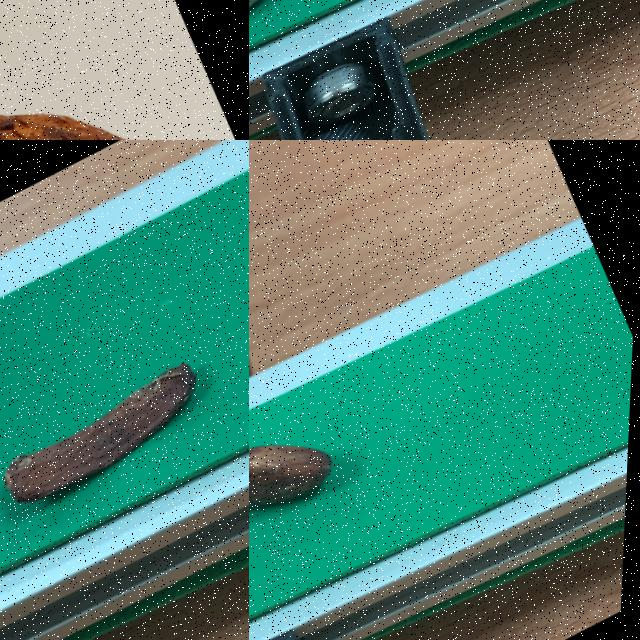Agglomerated_cocoabeans: (0, 22, 248, 139), (249, 0, 421, 132)
Fine_cocoabeans: (249, 339, 444, 620)
Flat_cocoabeans: (0, 296, 248, 568)
